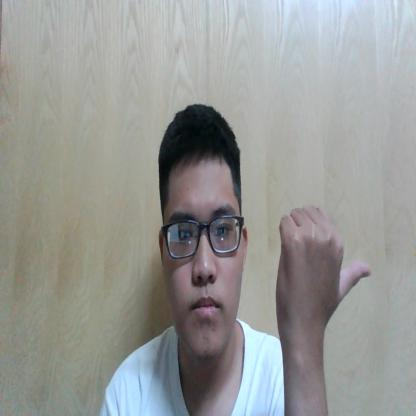left: (274, 204, 376, 331)
